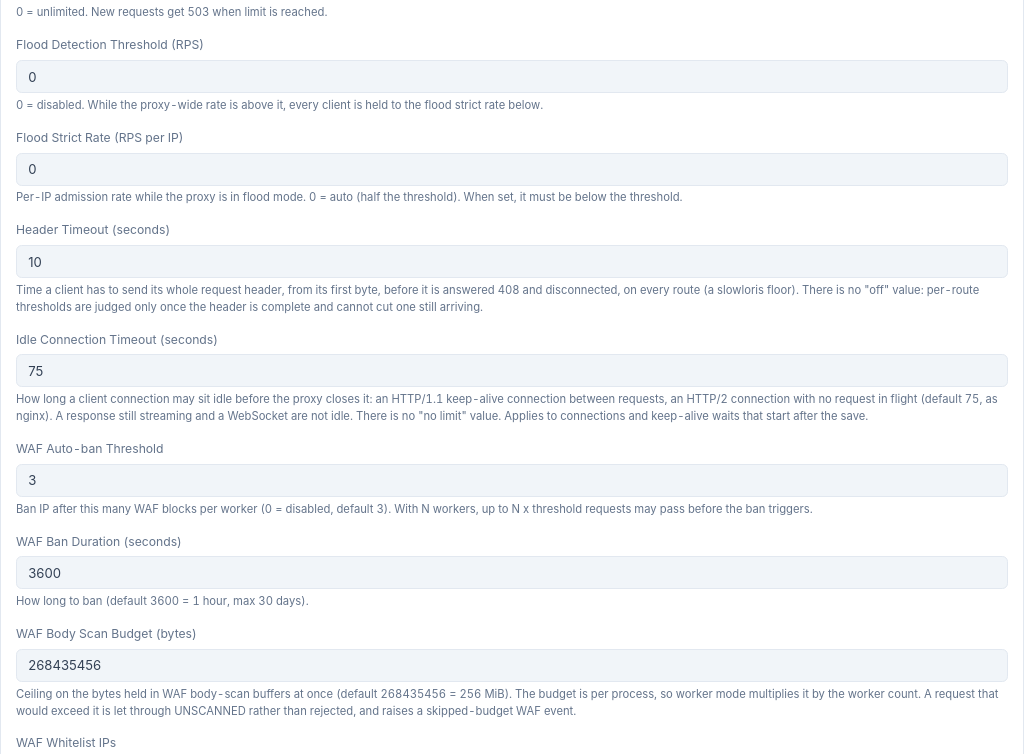
GlobalConfigTab, the settings backlog #89 added › refuses an idle timeout of 0 before the schema loads
(page scrolled)
Replace the text in the number field labelled "Idle Connection Timeout (seconds)" with "0": point(512, 371) [16,354,1008,388]
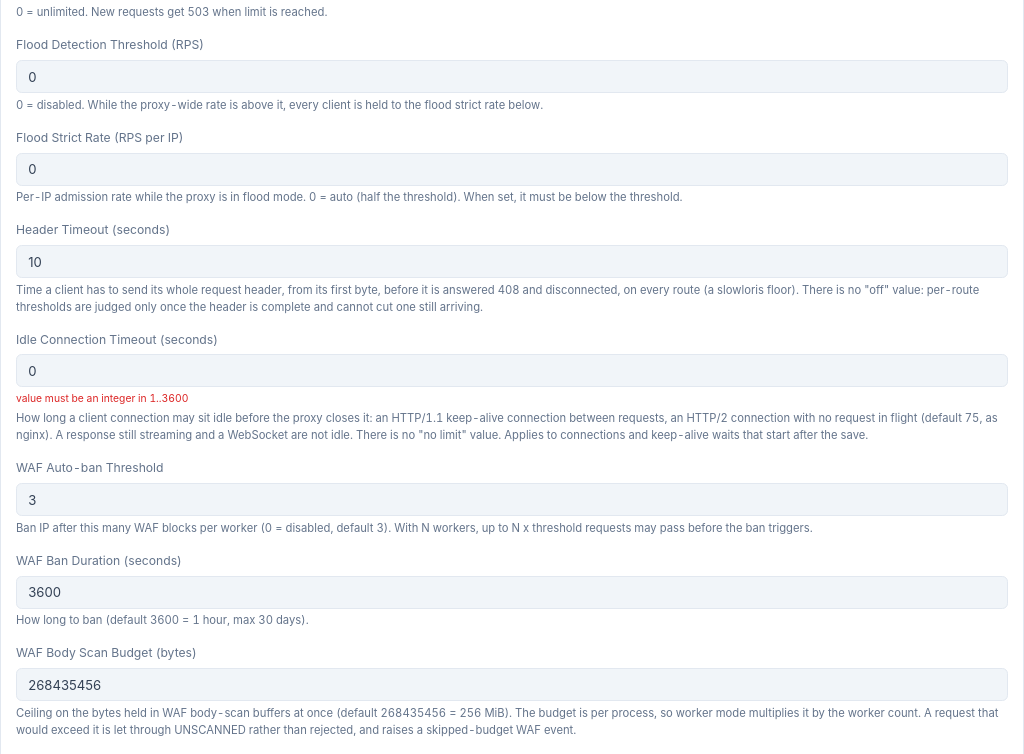
Expected: the message "value must be an integer in 1..3600" is shown, [16,392,188,404]
Replace the text in the number field labelled "Idle Connection Timeout (seconds)" with "75": point(512, 371) [16,354,1008,388]
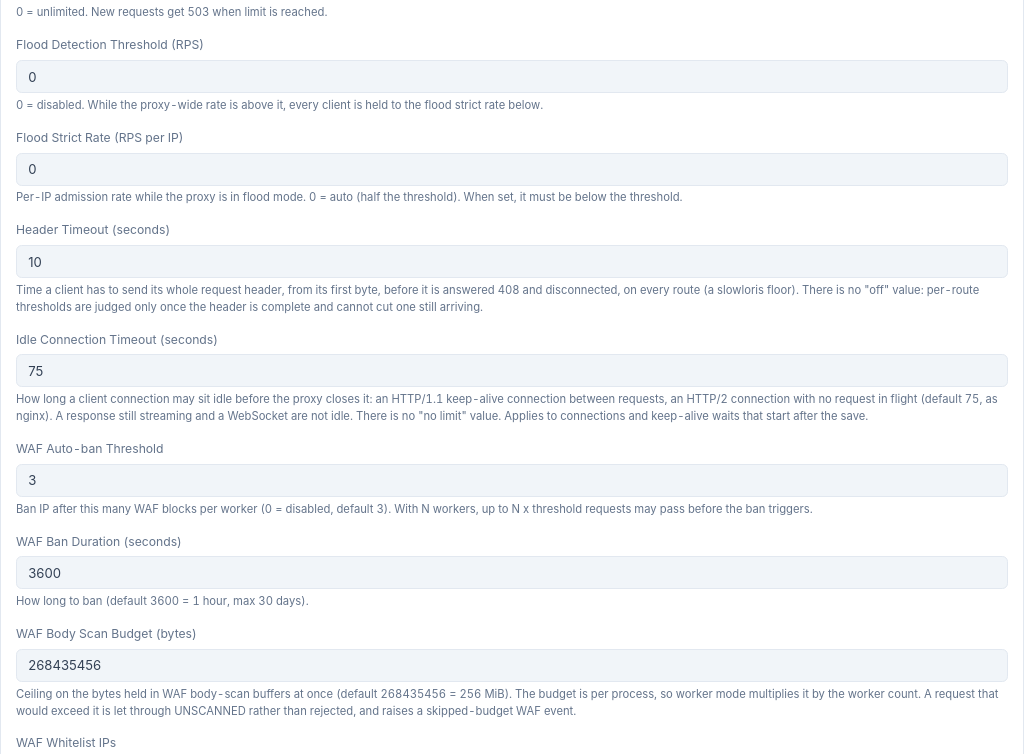
Expected: the message "value must be an integer in 1..3600" is gone
